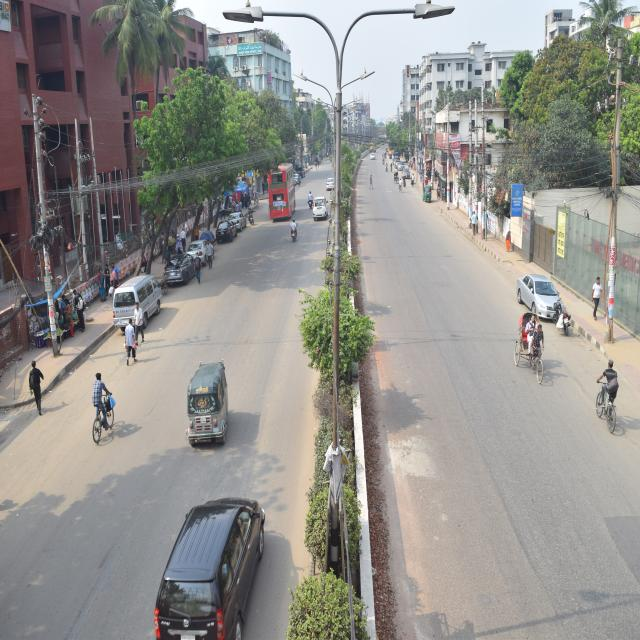bus: (258, 152, 301, 222)
car: (510, 269, 565, 326), (160, 250, 198, 291), (188, 237, 217, 269), (217, 216, 242, 251), (225, 210, 251, 232), (323, 175, 341, 192)
microbus: (151, 469, 275, 640), (110, 267, 163, 338), (314, 192, 331, 222)
motorbike: (545, 290, 575, 342), (286, 216, 299, 246), (305, 182, 315, 210)
